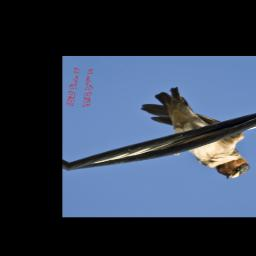Swallow: (129, 84, 256, 182)
